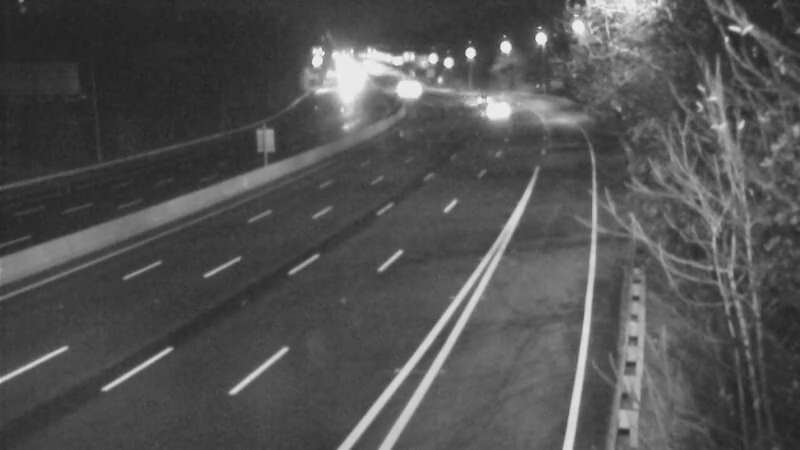vehicle: (387, 66, 437, 116), (450, 72, 500, 122), (472, 85, 522, 135)
